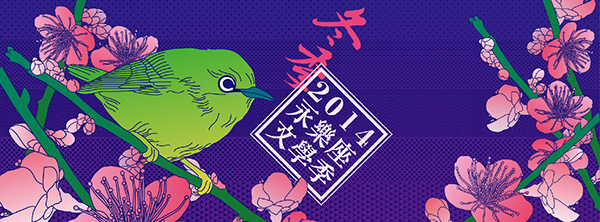bird: (62, 43, 280, 199)
